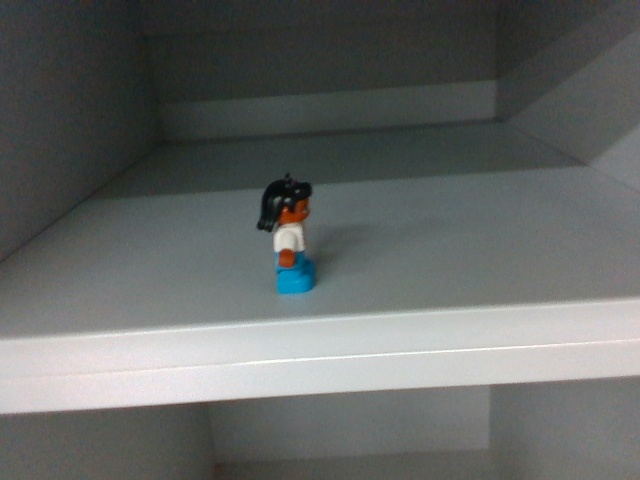people: (254, 178, 320, 305)
